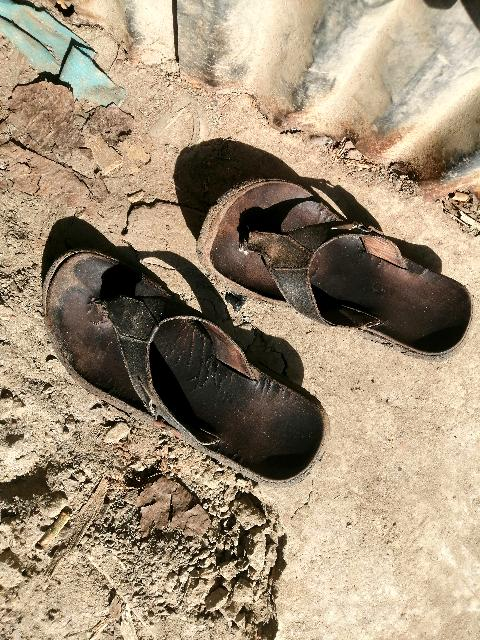sandal: (0, 217, 365, 539), (186, 163, 479, 383)
